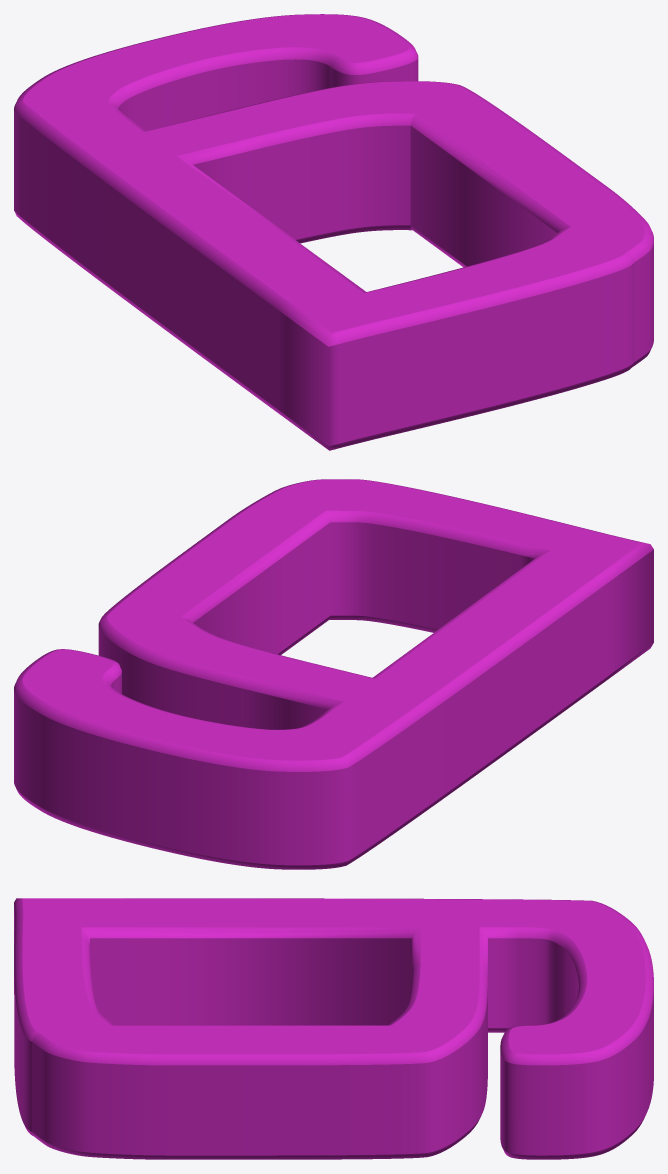
Rendered from Letter_g_CoolFont.fbx.
3 views of the same model, one above another, from view 1: azimuth 30°, elevation 25°; view 2: azimuth 150°, elevation 25°; view 3: azimuth 270°, elevation 25° (orthographic). The views are drawn at different scales.
Visible parts, largest first — view 1: Letter_g; view 2: Letter_g; view 3: Letter_g.
Boxes of the visible parts, x1,y1,x2,y2 form: Letter_g: (14, 14, 653, 450); Letter_g: (14, 479, 653, 869); Letter_g: (14, 898, 653, 1159).
Size of the model in its own units: 0.4657 by 0.14 by 0.7728.
